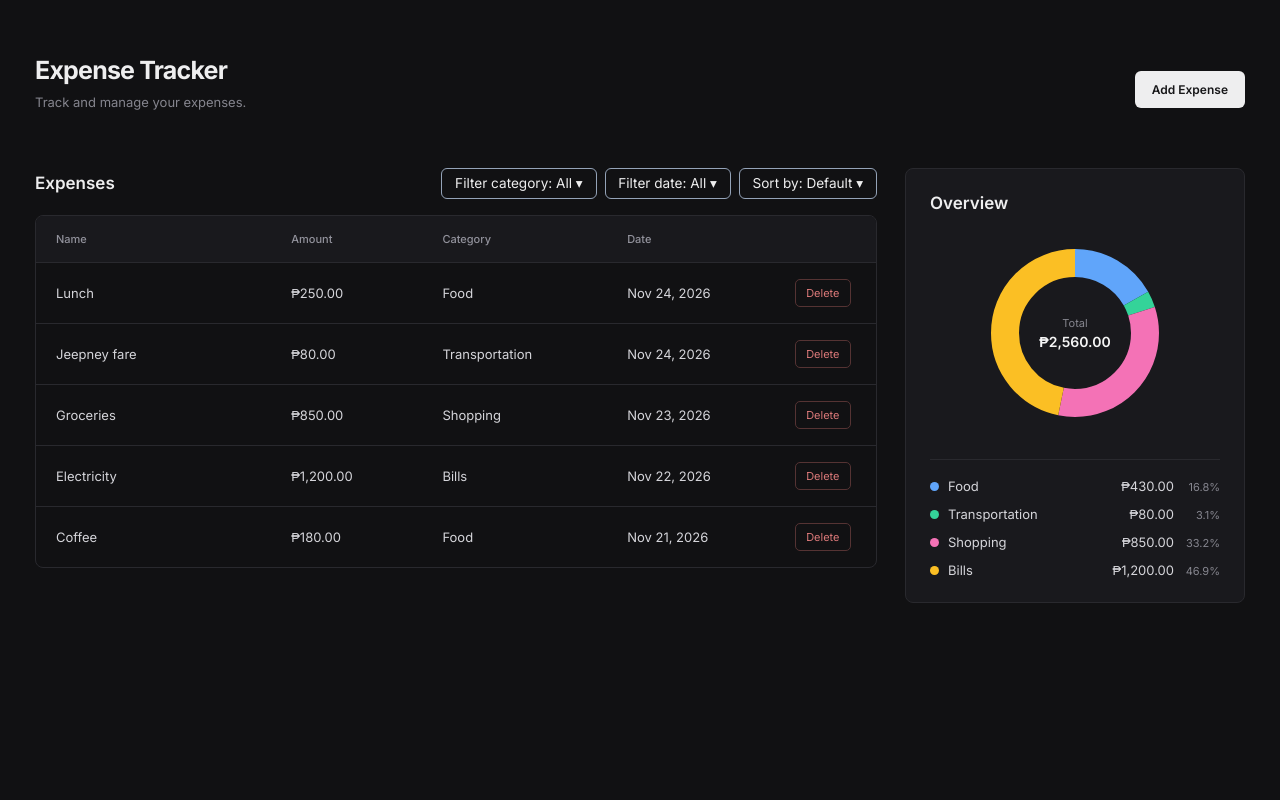
Scenario: ExpenseTracker App › filters expenses by category
Click the button "Add Expense".
click(1190, 89)  # box [1135,70,1245,108]
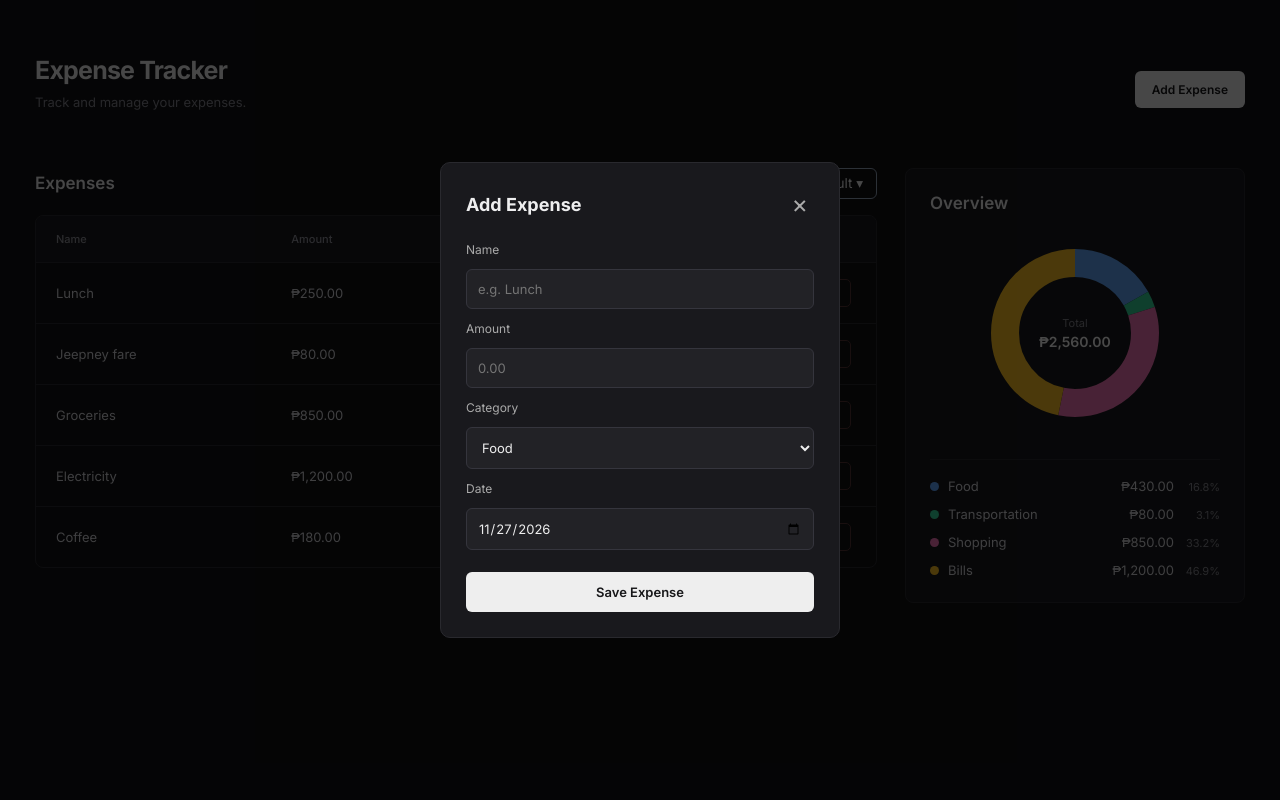
Type "Bills Test" into the field labelled "Name".
click(640, 289); type("Bills Test")  # box [466,269,814,309]
Type "500" into the number field labelled "Amount".
click(640, 368); type("500")  # box [466,348,814,388]
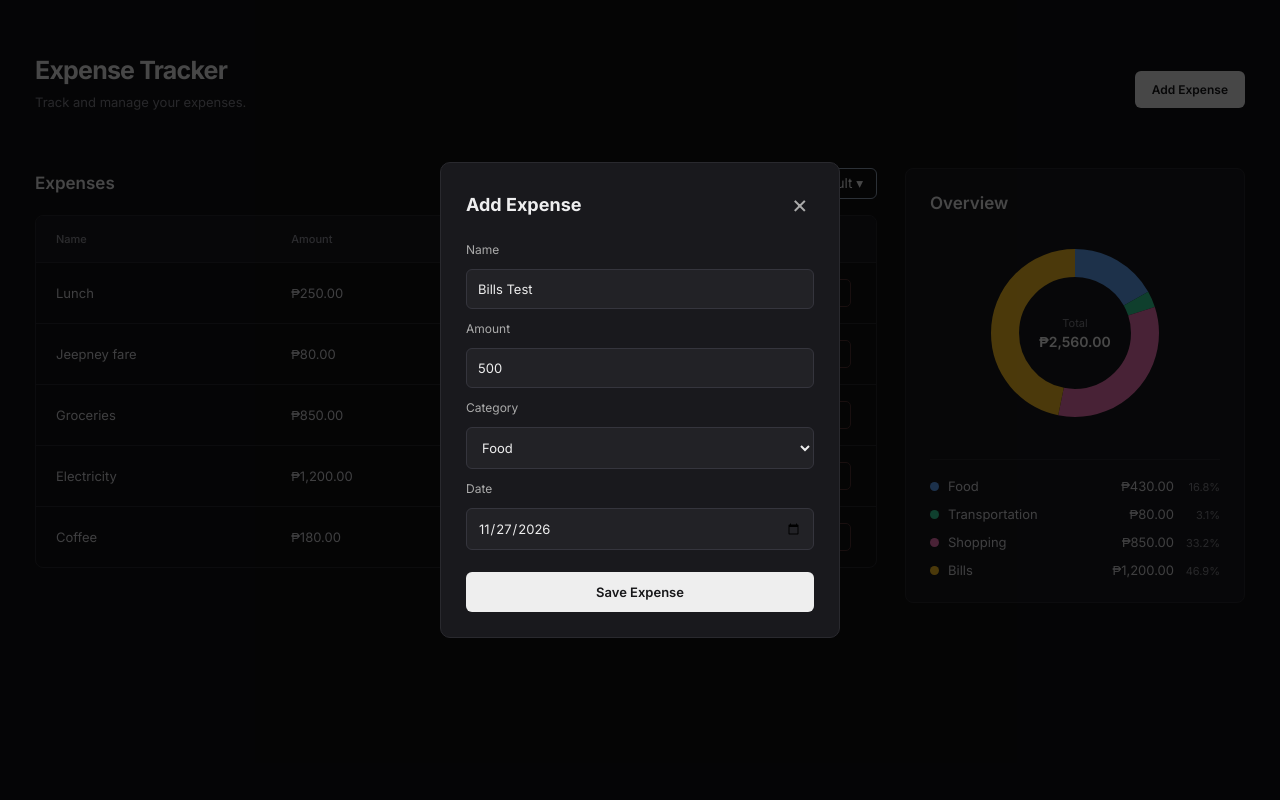
Select "Bills" in the dropdown labelled "Category" at {"x": 640, "y": 448}, box [466,427,814,469]
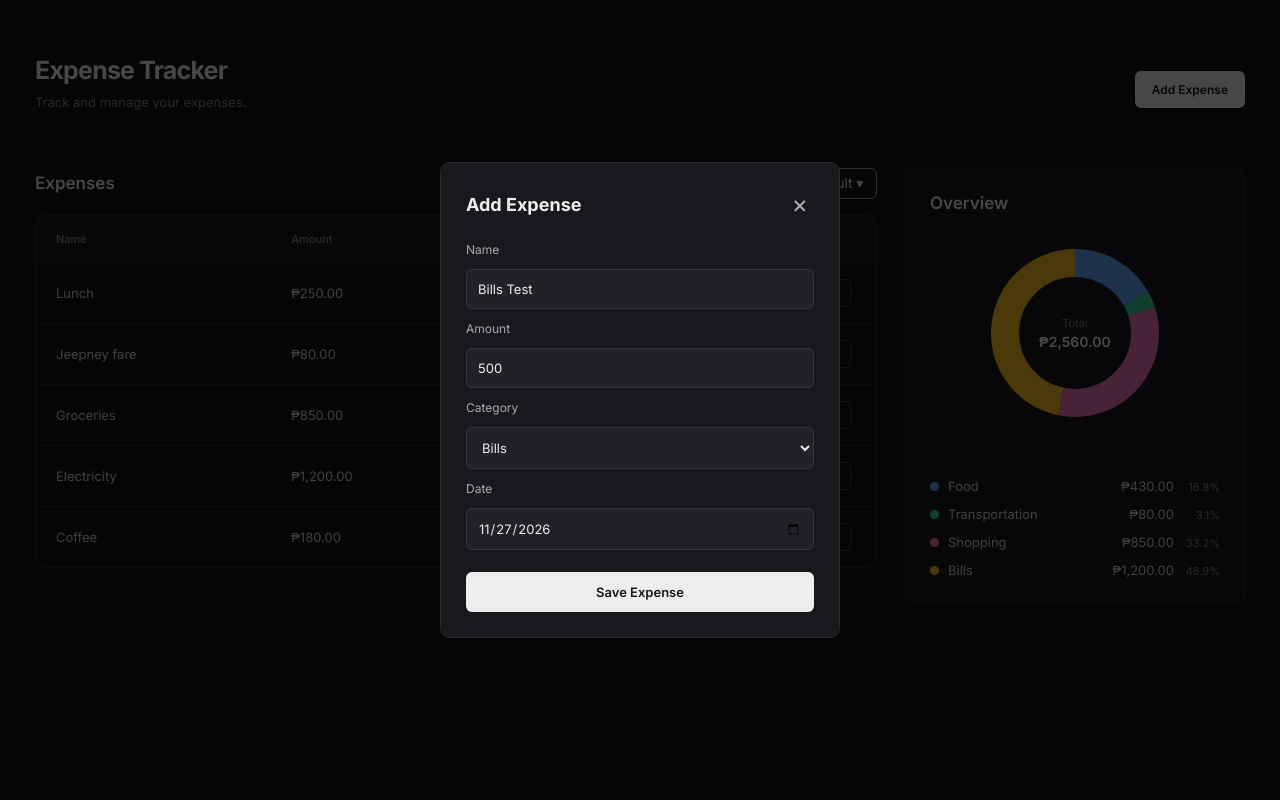
Click the button "Save Expense".
click(640, 592)  # box [466,572,814,612]
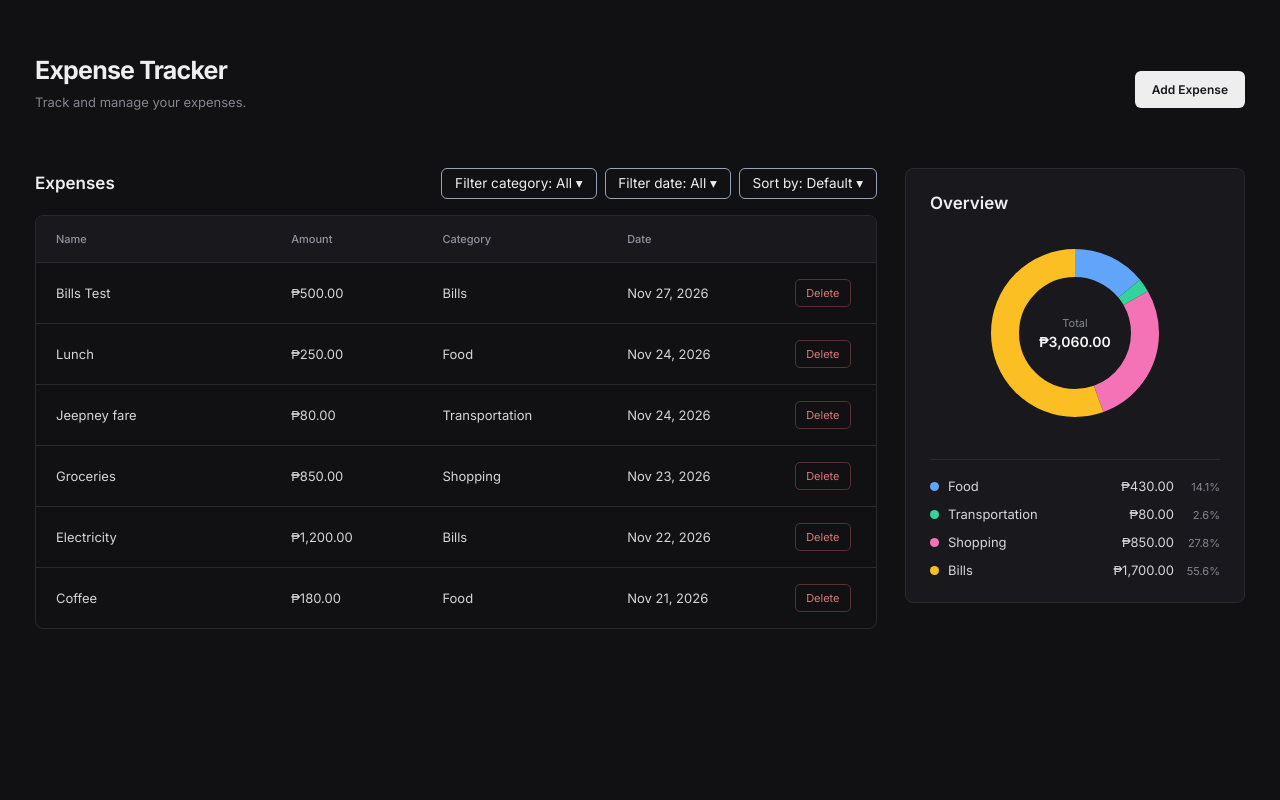
Click the button "Filter category: All ▾".
click(519, 183)  # box [441,168,596,199]
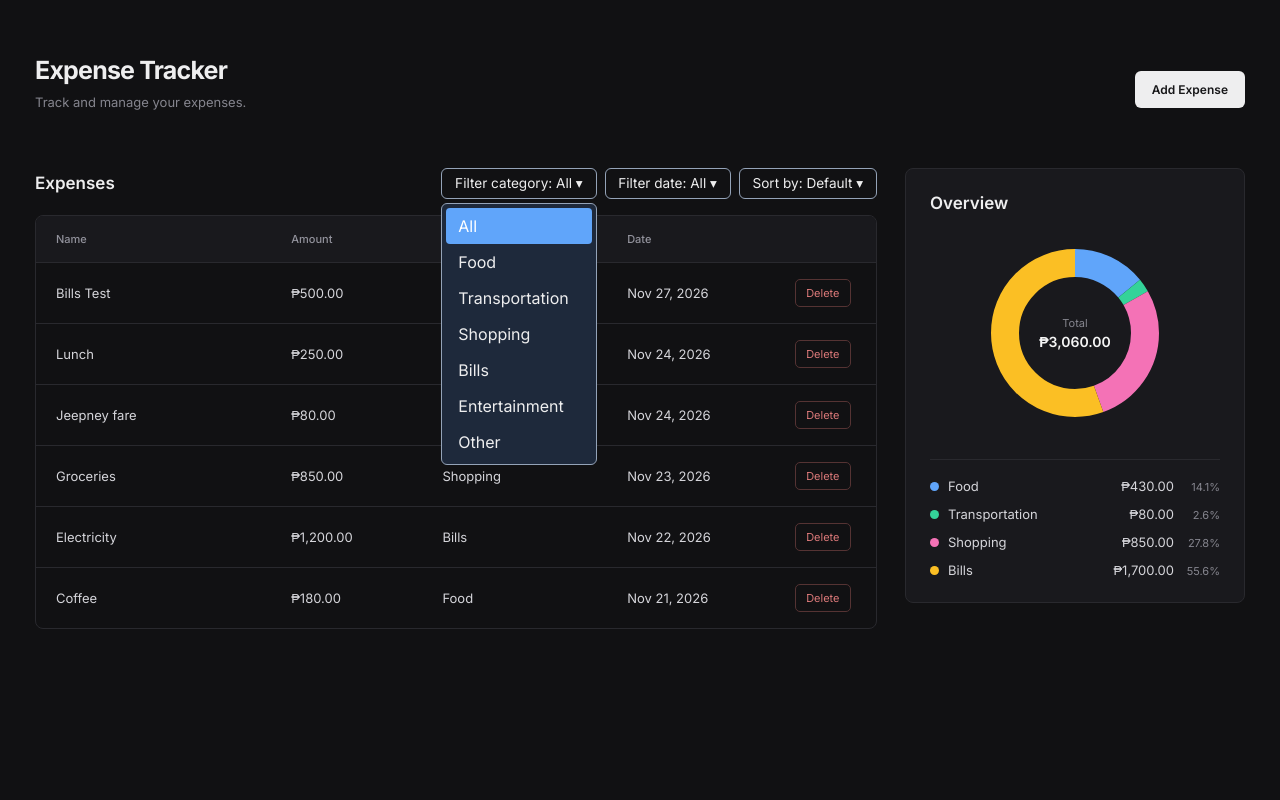
Click the button "Bills".
click(519, 370)  # box [446,352,592,388]
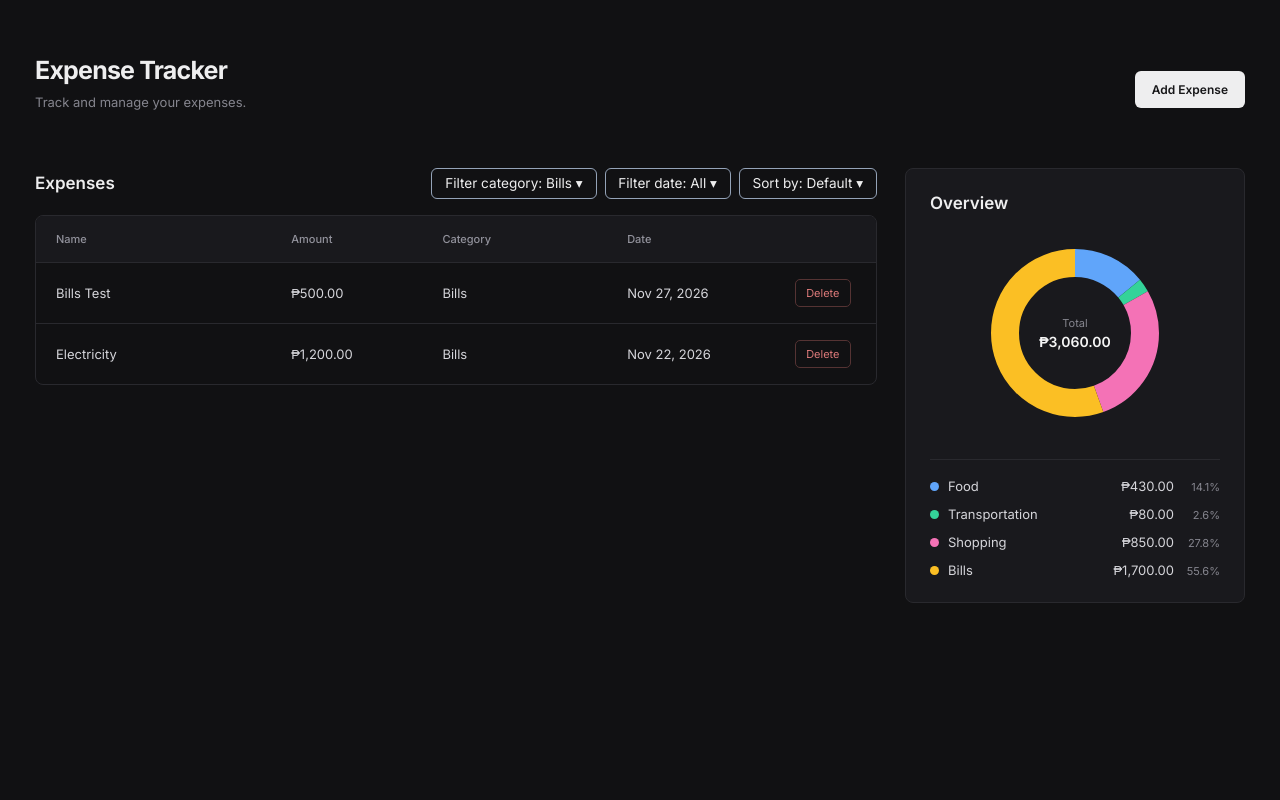
Check: the text "Bills Test" is shown, box [36,262,271,323]
Check: the text "Lunch" is gone
